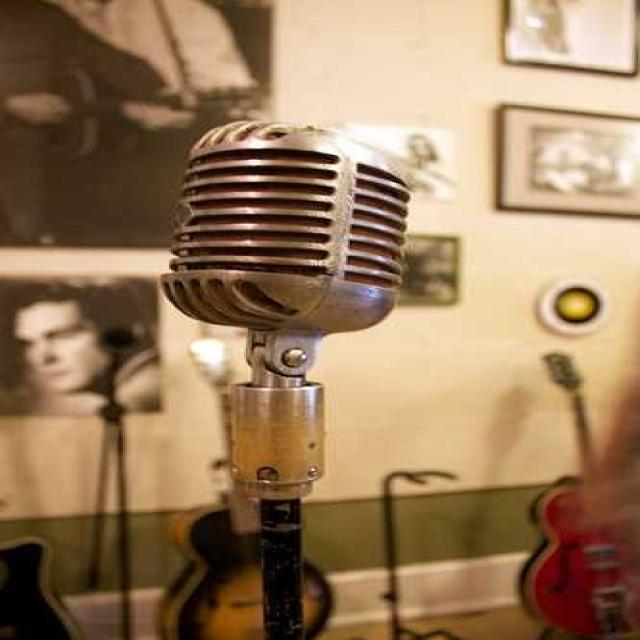microphone: (152, 104, 436, 336)
